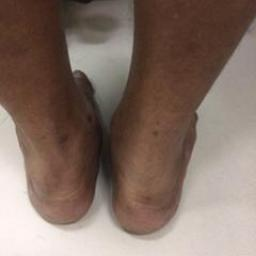Back View -Both Feet-: (6, 50, 225, 242)
